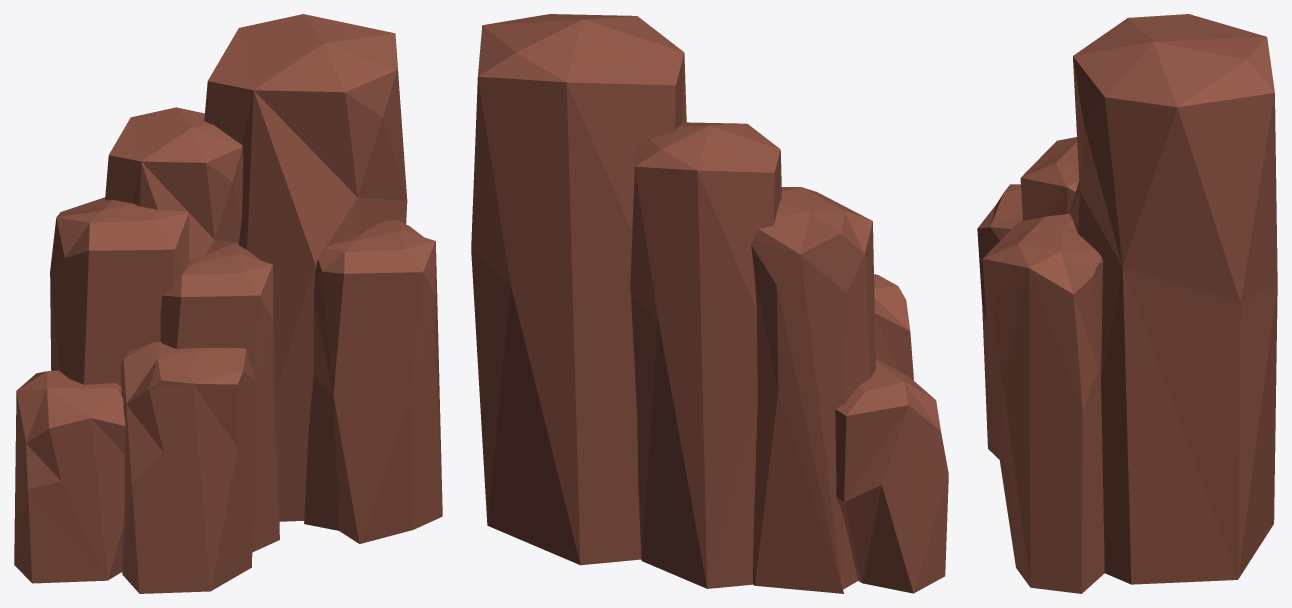
File: crag_007.fbx
The picture shows the model from 3 angles, left to right: view 1: azimuth 30°, elevation 25°; view 2: azimuth 150°, elevation 25°; view 3: azimuth 270°, elevation 25°; orthographic projection. The views are drawn at different scales.
Parts seen in each view (by area): view 1: crag_007; view 2: crag_007; view 3: crag_007.
Boxes of the visible parts, bbox=[...] form: crag_007: bbox=[14, 14, 442, 593]; crag_007: bbox=[471, 14, 948, 593]; crag_007: bbox=[977, 14, 1277, 593].
Bounding box in the file's own units: 2903 × 1673 × 3134.
